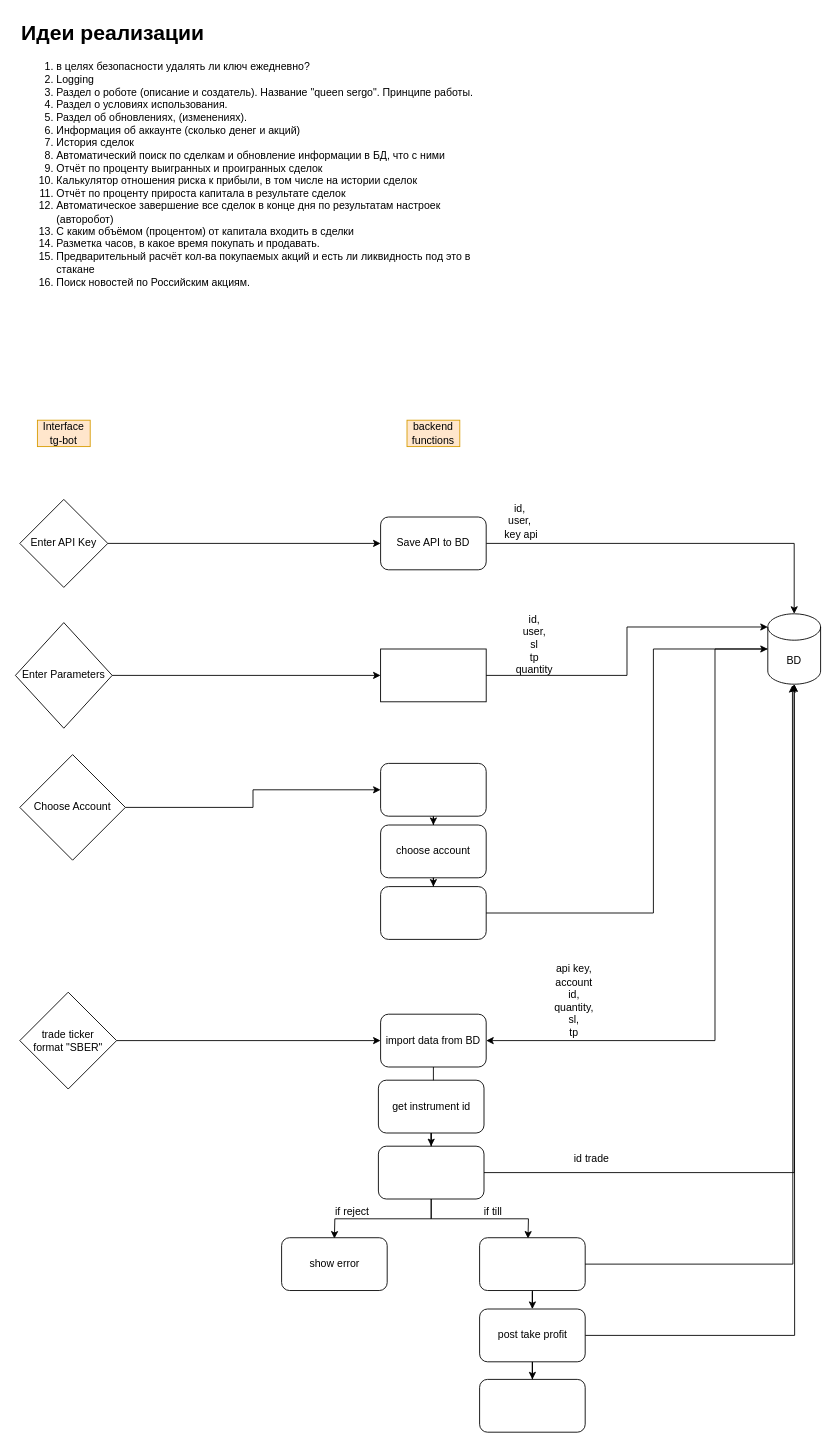
This 836x1448 diagram has some shape labels left out. Each missing label, with the centre of its shape:
Get all accounts: point (433, 789)
post stop loss: point (532, 1264)
post trade: point (431, 1172)
save choosed acount to BD: point (433, 912)
Save parameters to BD: point (433, 675)
show result: point (532, 1405)
